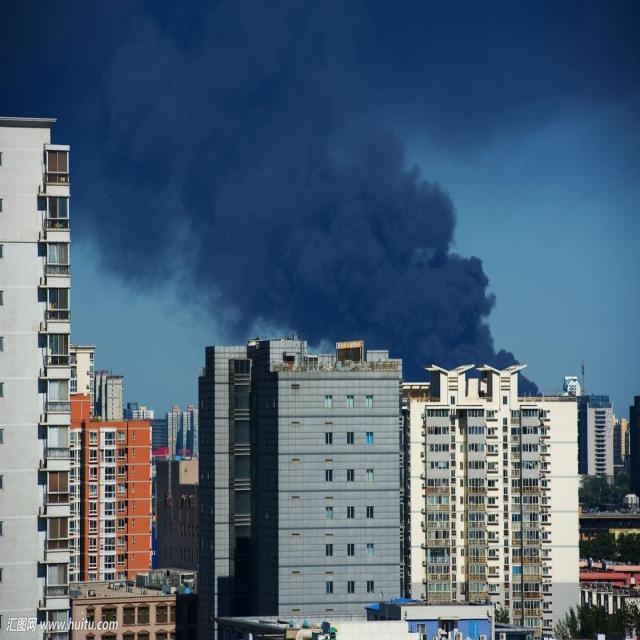Smoke: (0, 0, 640, 395)
